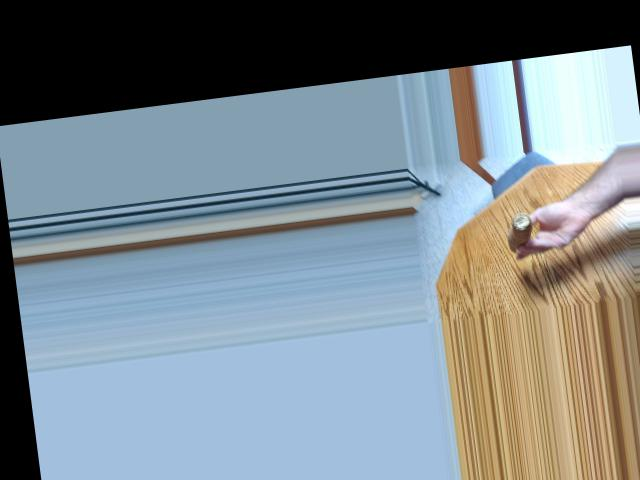sweet_potato: (503, 206, 542, 254)
